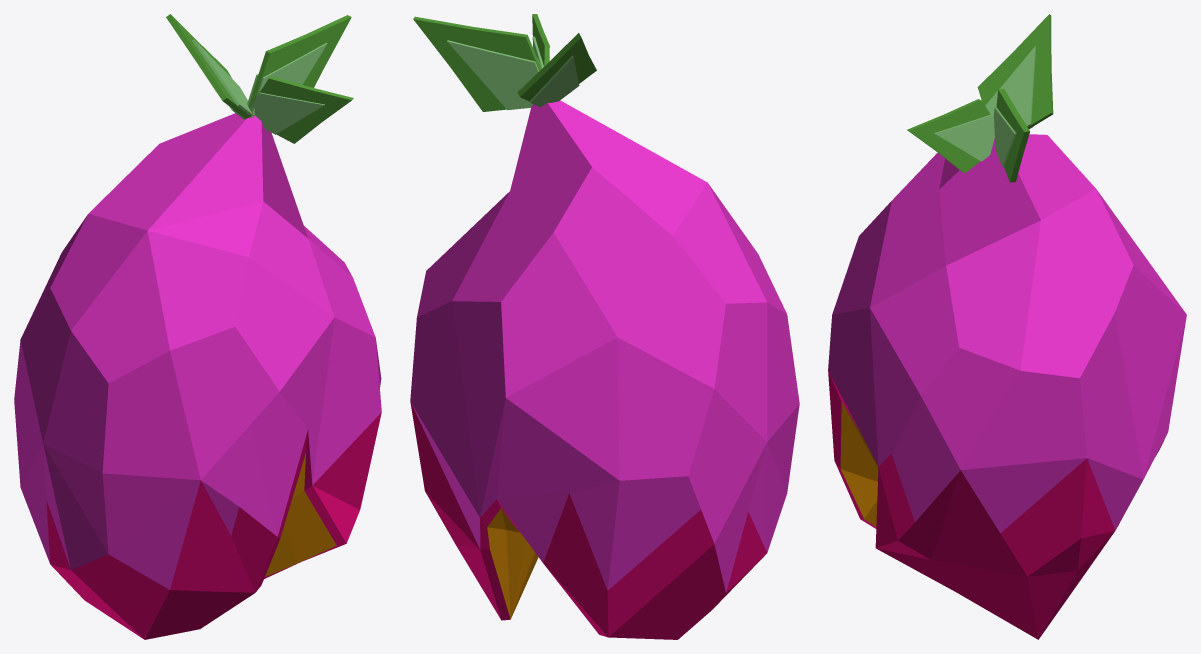
File: Luju.fbx
3 renders of one model, left to right at view 1: azimuth 30°, elevation 25°; view 2: azimuth 150°, elevation 25°; view 3: azimuth 270°, elevation 25°, orthographic. The views are drawn at different scales.
Visible parts, largest first — view 1: pPlatonic25, pPlane6, pPlane3, pPlane4, pPlane1, pPlane5, pPlane2; view 2: pPlatonic25, pPlane6, pPlane5, pPlane1, pPlane2; view 3: pPlatonic25, pPlane1, pPlane3, pPlane2, pPlane4, pPlane6, pPlane5.
Boxes of the visible parts, x1,y1,x2,y2 form: pPlatonic25: (14, 113, 381, 639); pPlane6: (248, 15, 351, 111); pPlane3: (250, 76, 353, 143); pPlane4: (249, 92, 324, 134); pPlane1: (166, 14, 251, 118); pPlane5: (247, 43, 327, 118); pPlane2: (192, 39, 254, 119); pPlatonic25: (410, 100, 799, 639); pPlane6: (413, 16, 541, 111); pPlane5: (447, 40, 541, 110); pPlane1: (517, 33, 596, 101); pPlane2: (530, 55, 579, 107); pPlatonic25: (828, 134, 1186, 639); pPlane1: (977, 14, 1053, 128); pPlane3: (907, 99, 990, 173); pPlane2: (985, 46, 1035, 129); pPlane4: (934, 114, 994, 161); pPlane6: (996, 88, 1029, 182); pPlane5: (993, 107, 1016, 166).
Bounding box in the file's own units: 3.92 × 6.78 × 3.76.
